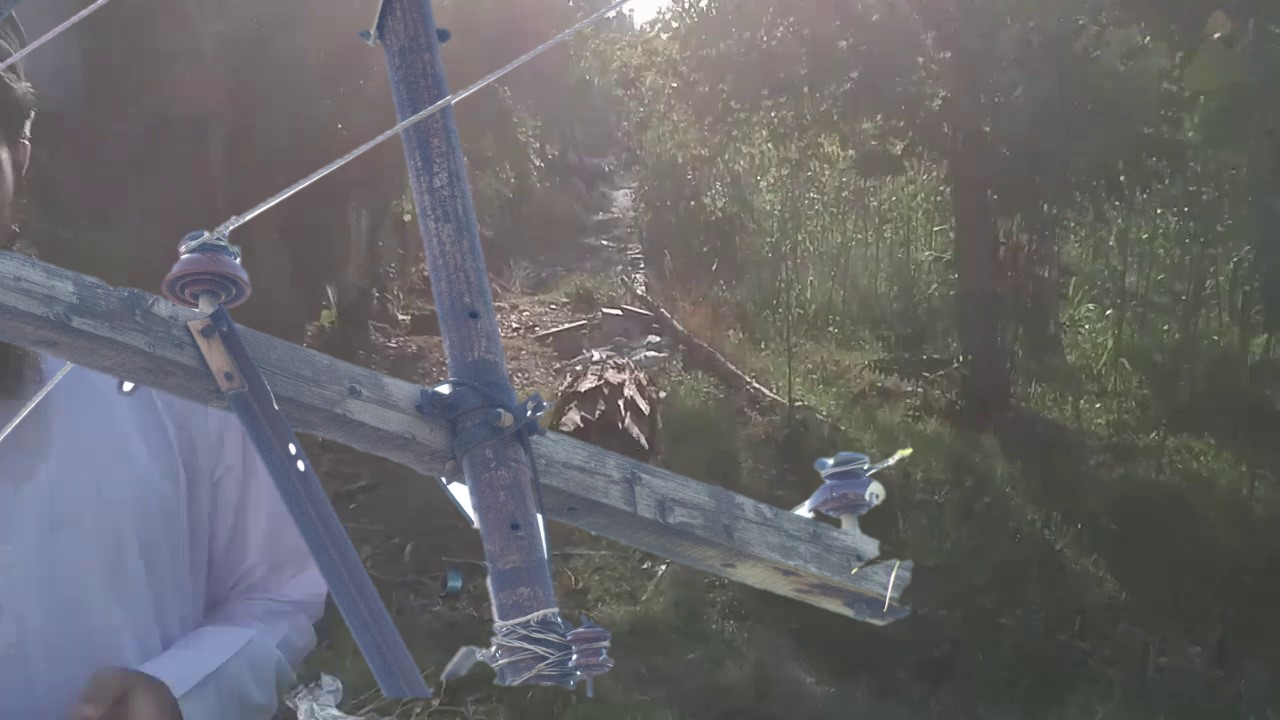defect_pin: (803, 440, 893, 526)
insulator_pin: (160, 228, 254, 315)
